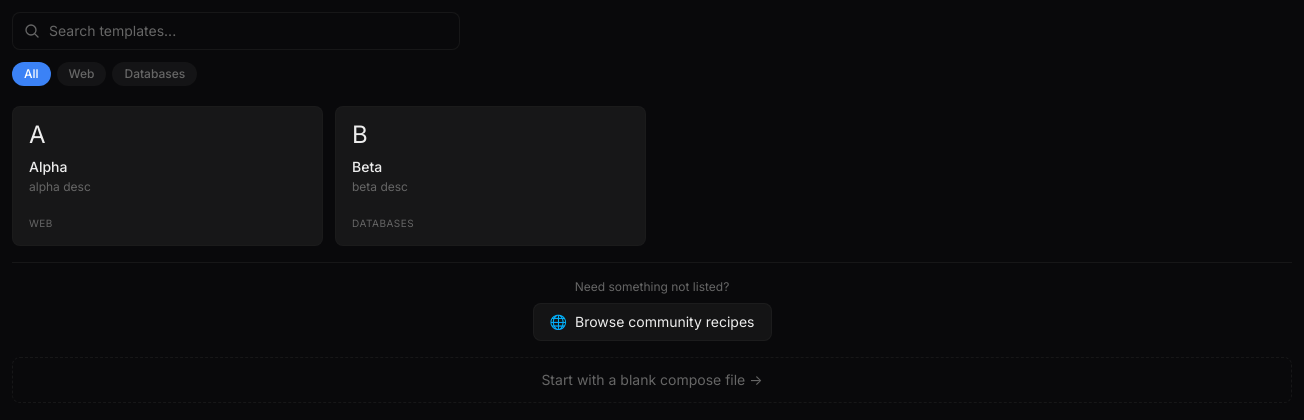
Test: TemplatePicker (grid) › filters by category chip
Click the button "Databases" at (155, 74), box x1=112 y1=62 x2=197 y2=86
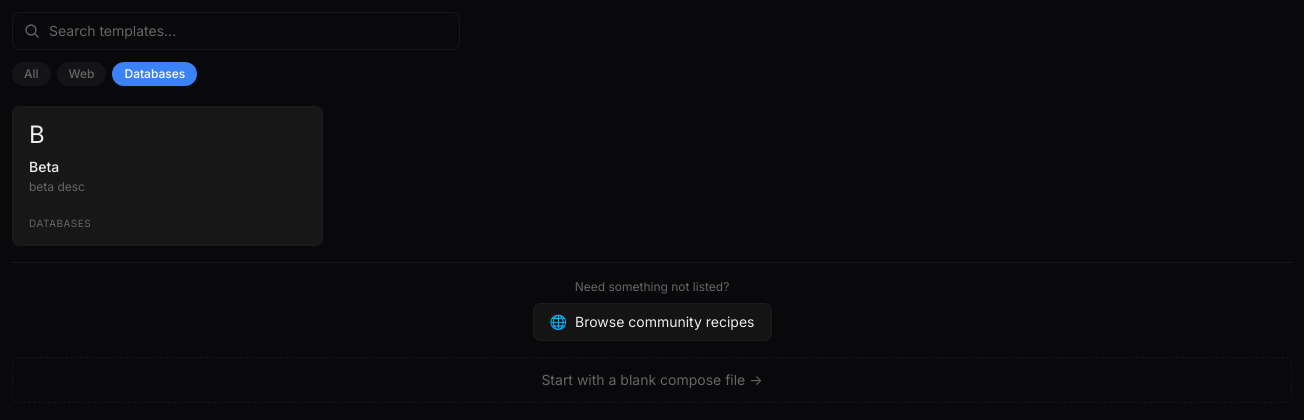
Expected: the text "Beta" is shown, x1=29 y1=158 x2=59 y2=175
Expected: the button "Alpha" is gone
